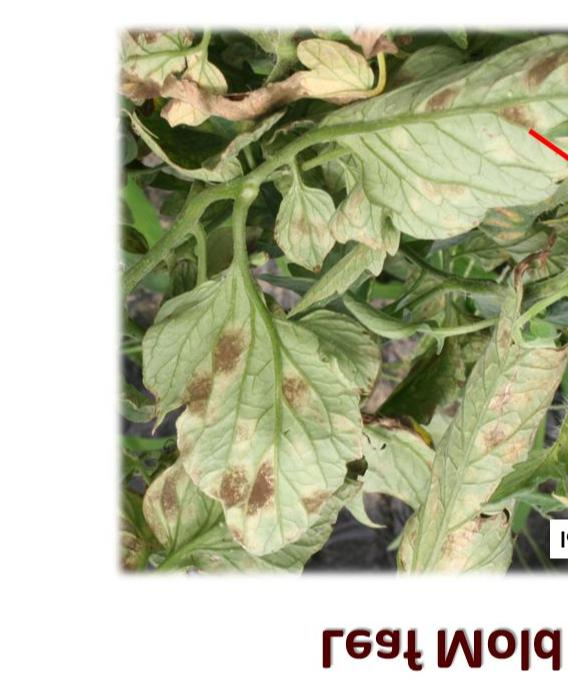Tomato mold leaf: (140, 259, 369, 561), (379, 284, 568, 571), (324, 39, 568, 256), (264, 175, 342, 275)
